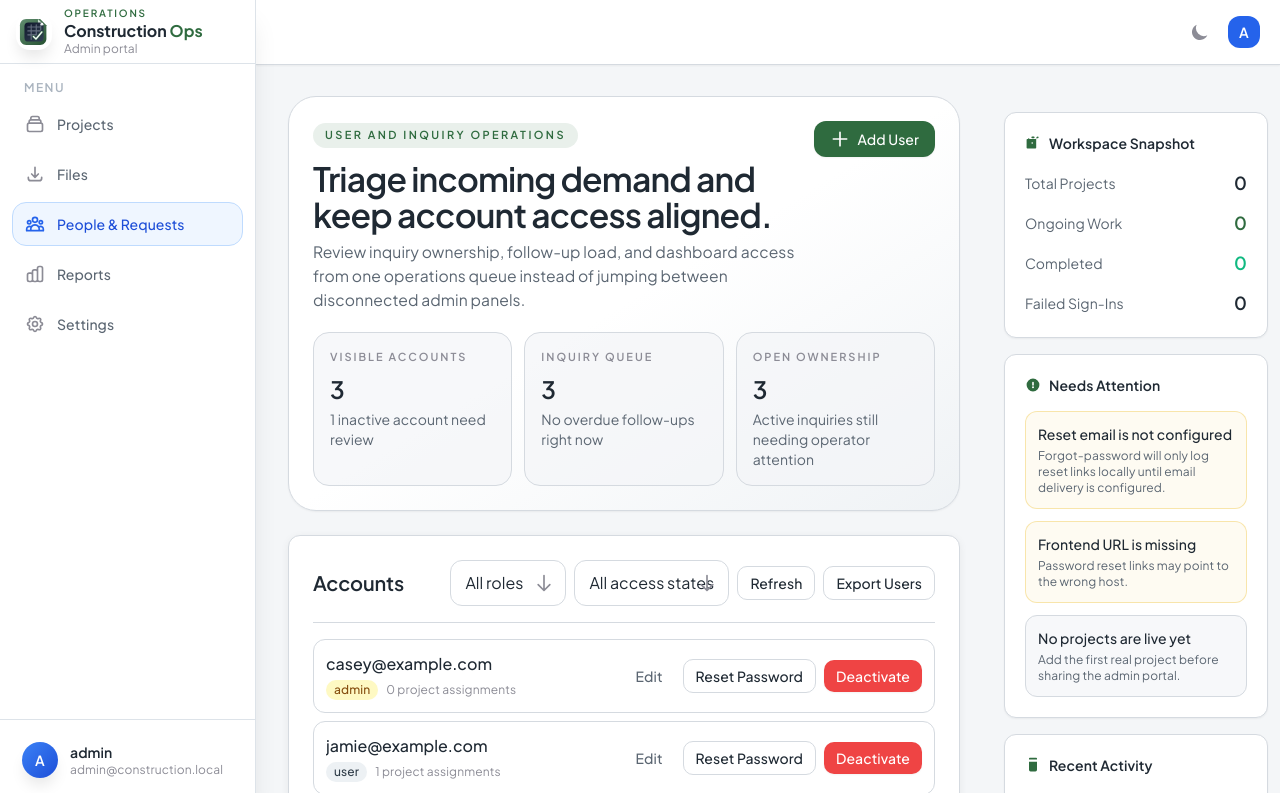
Test: AdminDashboard route shell › user edit modal assigns project access by project name instead of raw ids
The image size is (1280, 793).
Expected: the text "casey@example.com" is shown, [326,652,516,676]
Click the button "Edit" in the row of "jamie@example.com" at (649, 758), box [624,742,674,774]
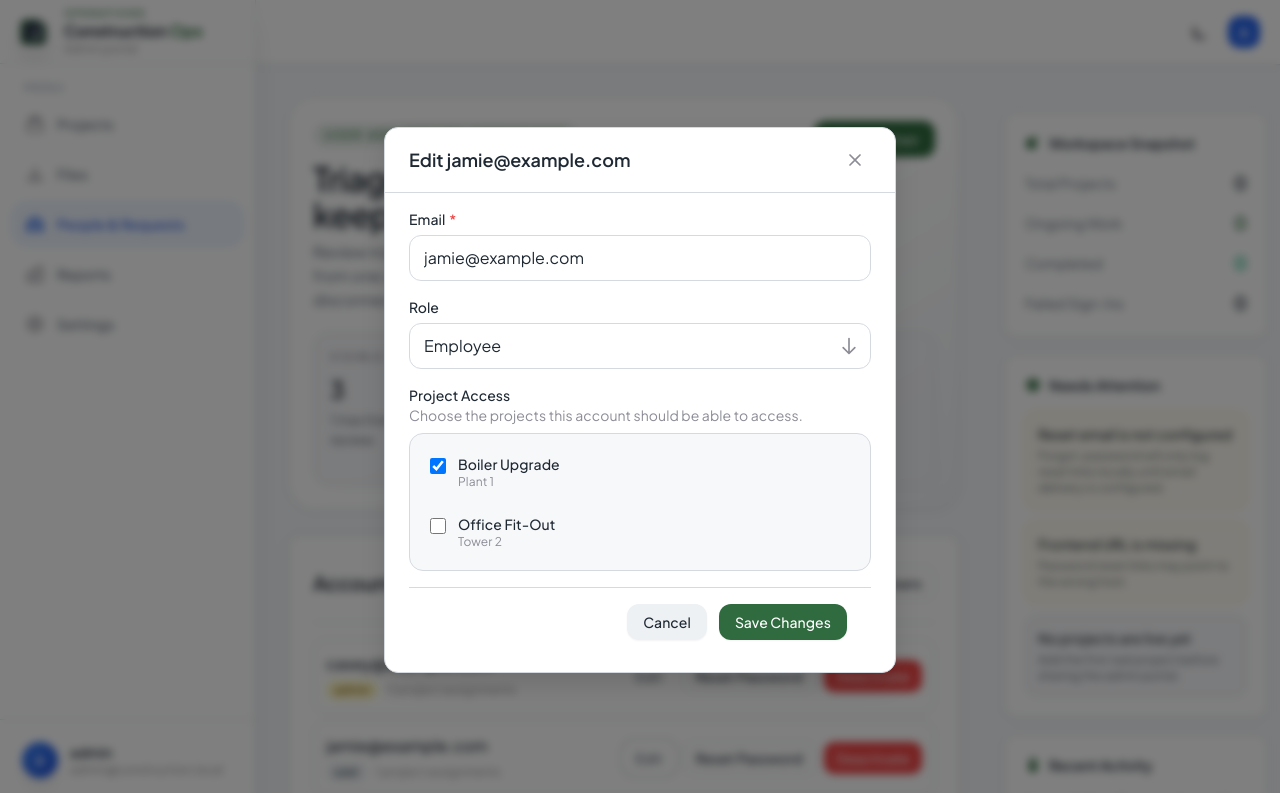
Result: the text "Project Access" is shown at [409,386,510,404]
Result: the text "Boiler Upgrade" is shown at [458,454,560,474]
Result: the text "Office Fit-Out" is shown at [458,514,555,534]
Click the checkbox labelled "Office Fit-Out Tower 2" at (438, 526), box [430,518,446,534]
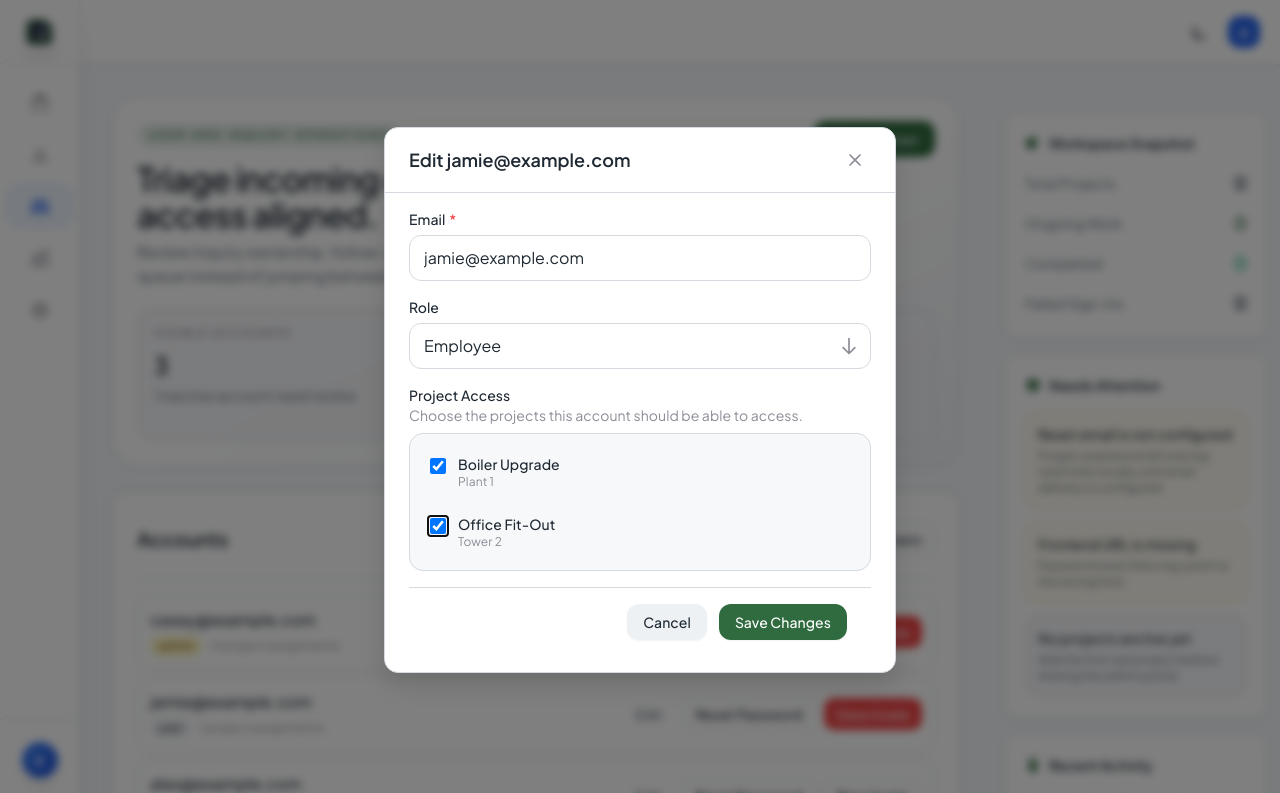
Click the button "Save Changes" at (783, 622), box [719,604,847,640]
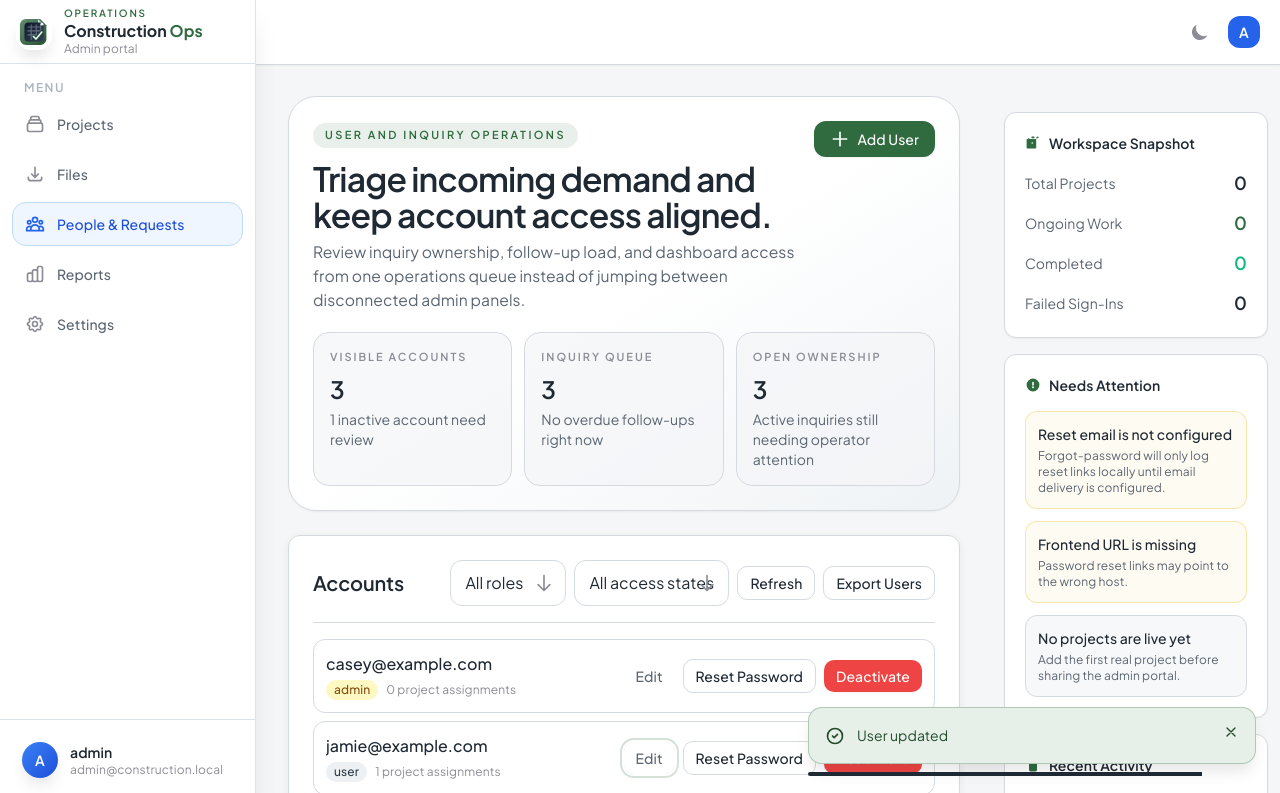
Result: the text "Project Access" is gone
